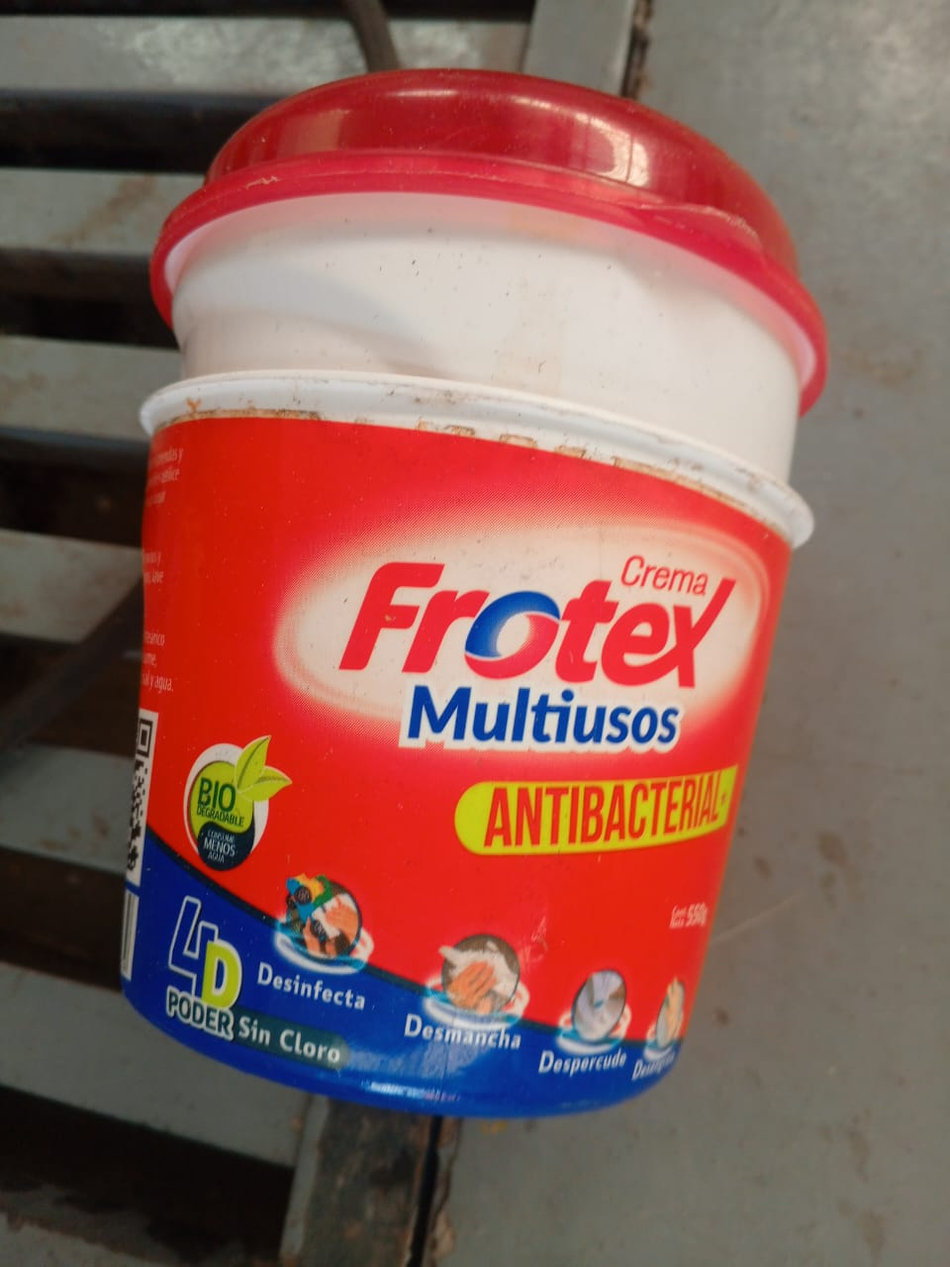Plastico: (115, 71, 832, 1124)
